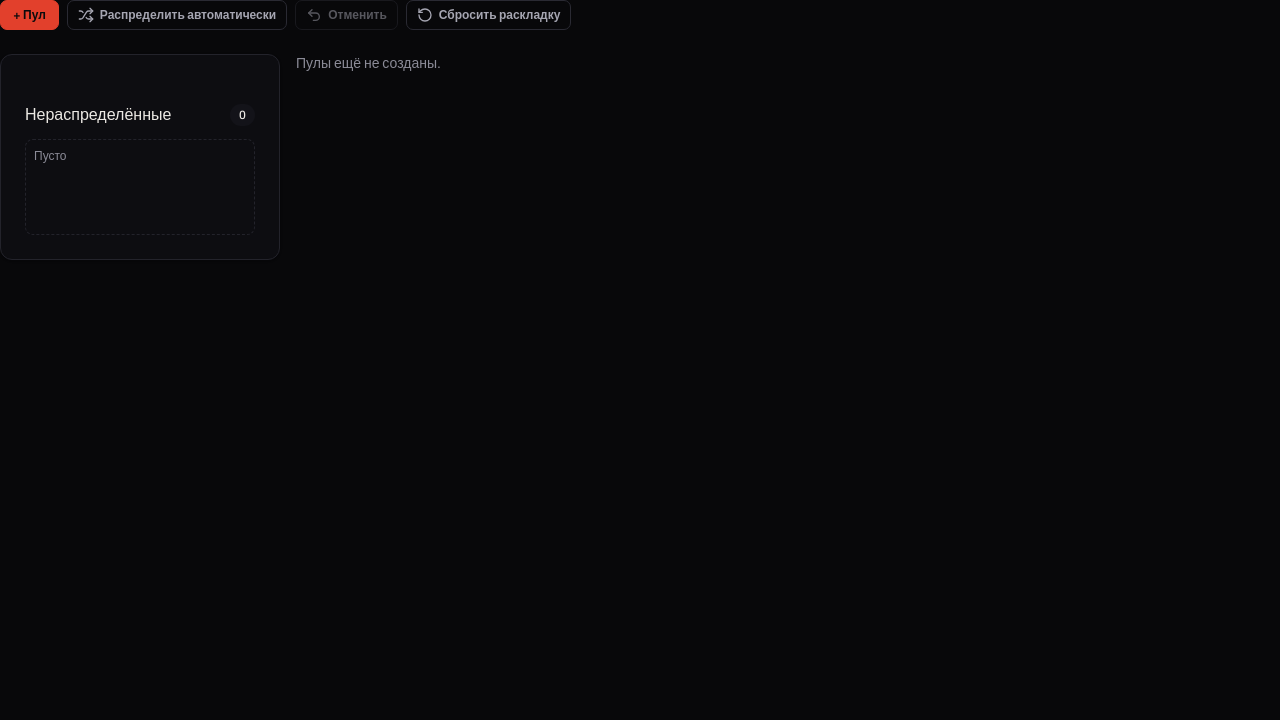
Scenario: NominationPools › opens ConfirmDialog instead of window.confirm on reset click
This screenshot has width=1280, height=720.
Step 1. Click the button "Сбросить раскладку" → x=489, y=15, box 406,0 -> 571,30
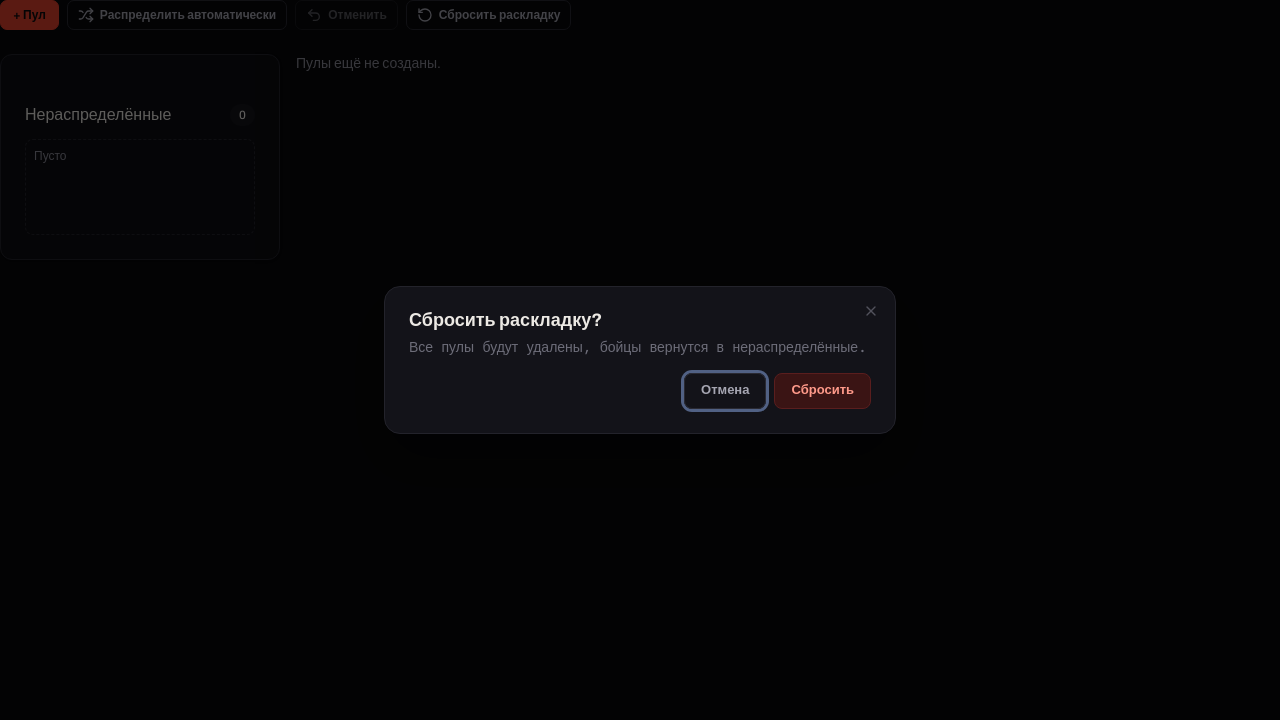
Now the heading "Сбросить раскладку?" is shown, box 409,310 -> 602,330
Now the text "Все пулы будут удалены, бойцы вернутся в нераспределённые." is shown, box 409,337 -> 871,357
